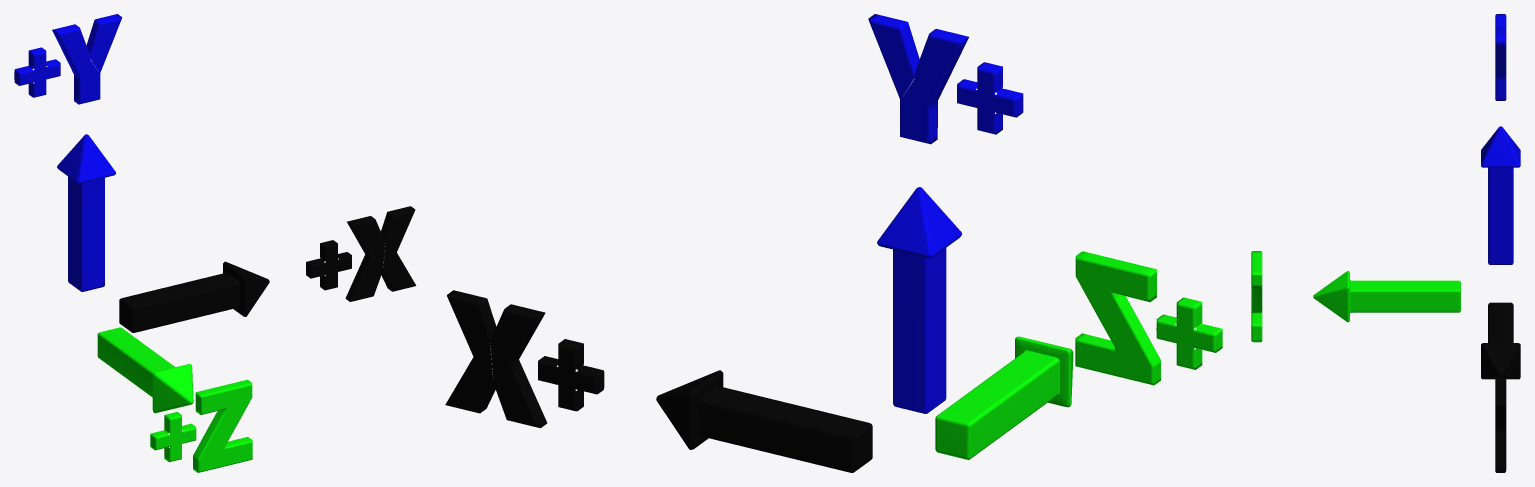
Rendered from Axis.gltf.
3 views of the same model, side by side, from view 1: azimuth 30°, elevation 25°; view 2: azimuth 150°, elevation 25°; view 3: azimuth 270°, elevation 25° (orthographic). The views are drawn at different scales.
Visible parts, largest first — view 1: CoordinateSystem, X_axis, Z_axis, Y_axis; view 2: CoordinateSystem, X_axis, Z_axis, Y_axis; view 3: CoordinateSystem, X_axis, Z_axis, Y_axis.
Part boxes in pixels (x1=…): CoordinateSystem: x1=57, y1=134, x2=269, y2=413; X_axis: x1=306, y1=206, x2=416, y2=301; Z_axis: x1=150, y1=379, x2=252, y2=472; Y_axis: x1=14, y1=14, x2=122, y2=104; CoordinateSystem: x1=656, y1=187, x2=1073, y2=472; X_axis: x1=445, y1=290, x2=604, y2=428; Z_axis: x1=1075, y1=251, x2=1222, y2=385; Y_axis: x1=868, y1=14, x2=1023, y2=144; CoordinateSystem: x1=1313, y1=126, x2=1520, y2=379; X_axis: x1=1495, y1=376, x2=1506, y2=472; Z_axis: x1=1251, y1=251, x2=1262, y2=342; Y_axis: x1=1495, y1=14, x2=1506, y2=100.
Bounding box in the file's own units: 0.0156 × 0.0127 × 0.0103.
